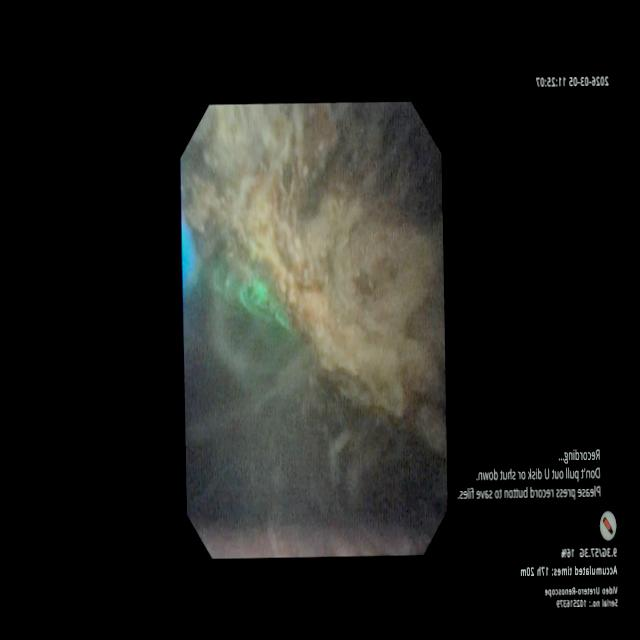laser_dot: (239, 276, 289, 328)
stone-new: (183, 104, 445, 416)
